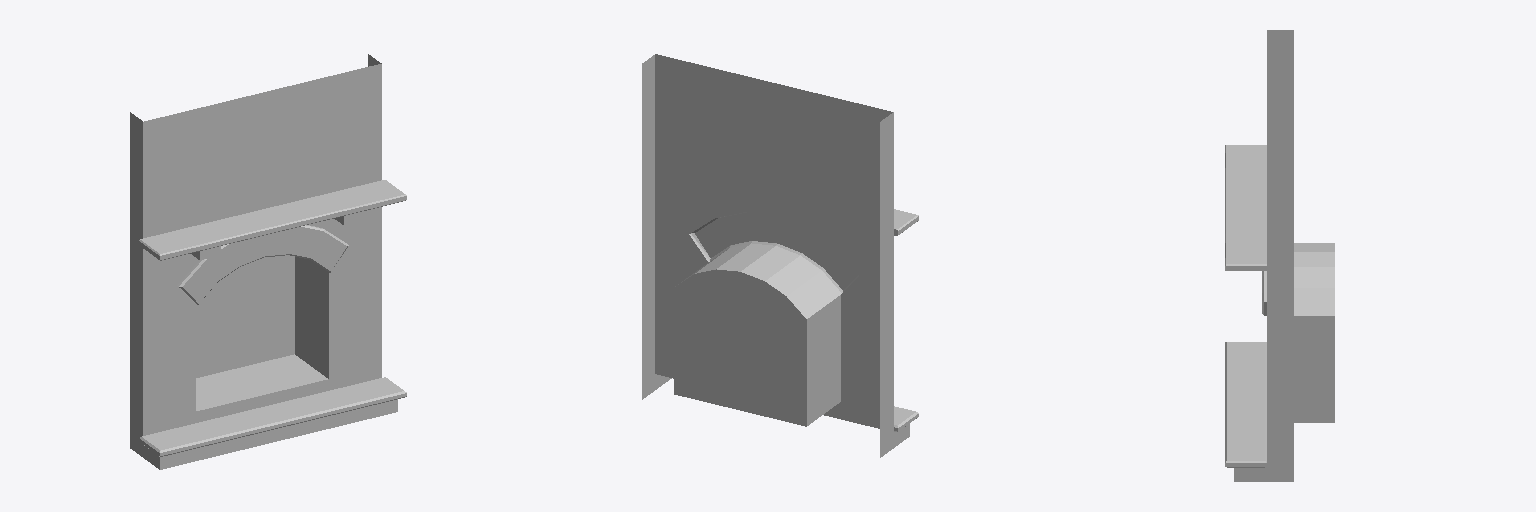
File: fireplace.obj
3 renders of one model, left to right at view 1: azimuth 30°, elevation 25°; view 2: azimuth 150°, elevation 25°; view 3: azimuth 270°, elevation 25°, orthographic.
Visible parts, largest first — view 1: polySurface16; view 2: polySurface16; view 3: polySurface16.
Part boxes in pixels (left/top/right/bottom): polySurface16: left=130, top=54, right=406, bottom=469; polySurface16: left=642, top=54, right=918, bottom=457; polySurface16: left=1225, top=30, right=1334, bottom=481.
Size of the model in its own units: 208 by 270 by 79.92.